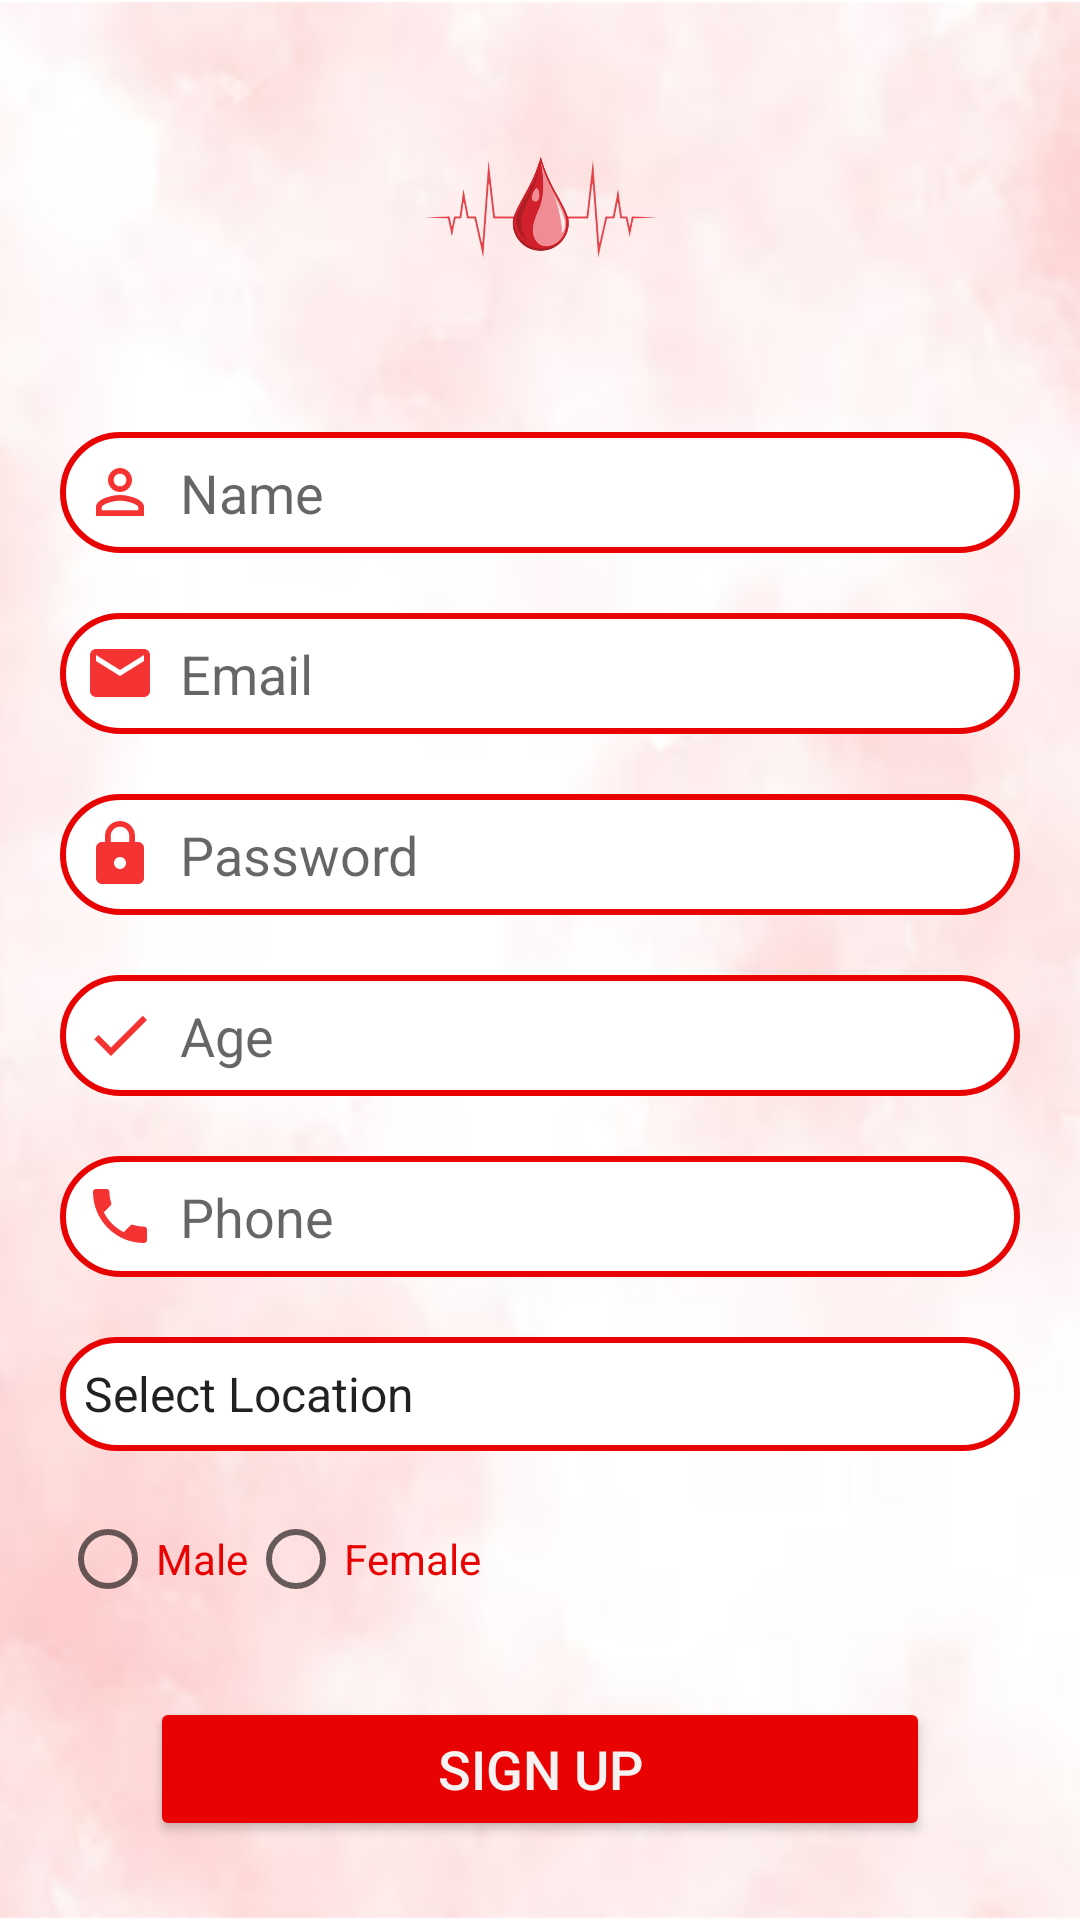

Icons on this 1080 × 1920 Android screen, each with its box as (x1, y1, x2, y2):
blood dot: (427, 157, 656, 257)
